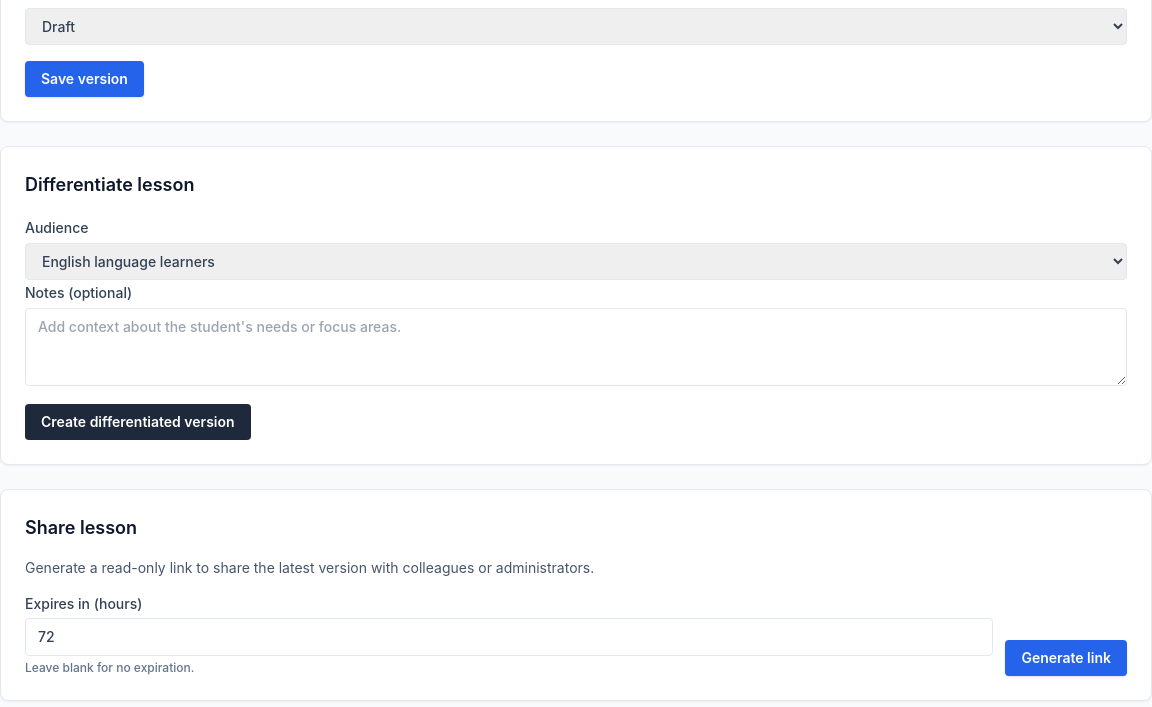
Test: LessonDetailPage › submits a differentiation request
The width and height of the screenshot is (1152, 707).
(page scrolled)
Type "Focus on vocabulary scaffolds." into the text box labelled "Notes (optional)" at (576, 347), box [25,308,1127,386]
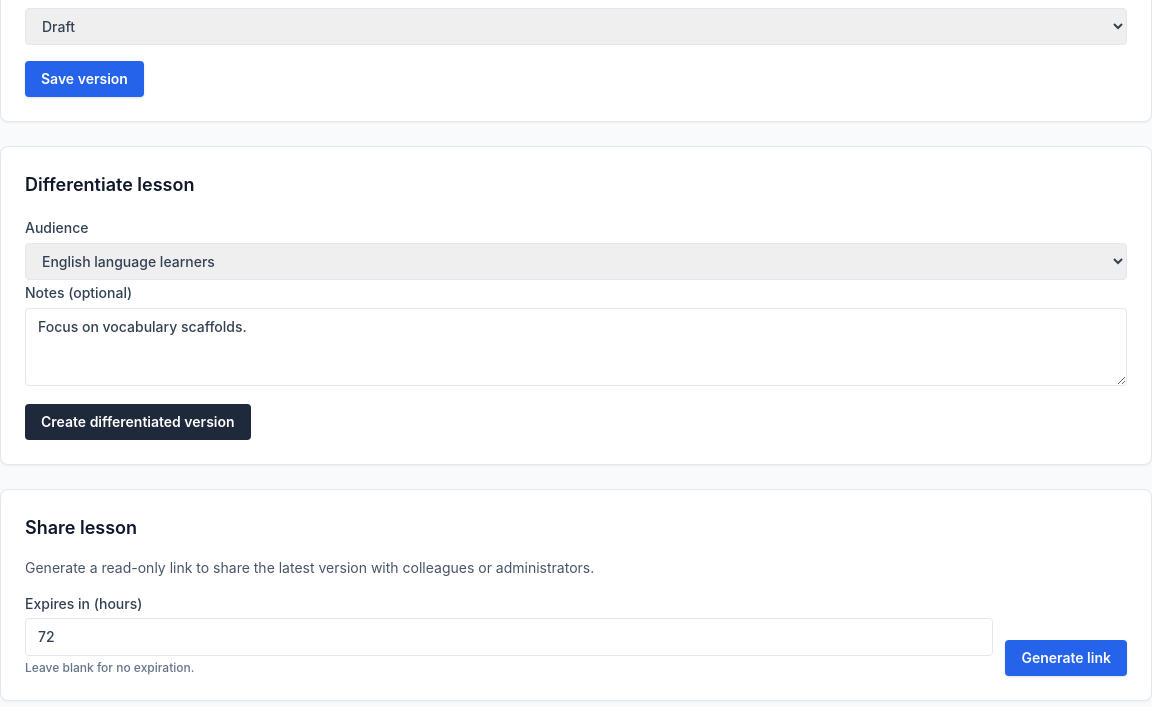
Click the button "Create differentiated version" at (138, 422), box [25,404,251,440]
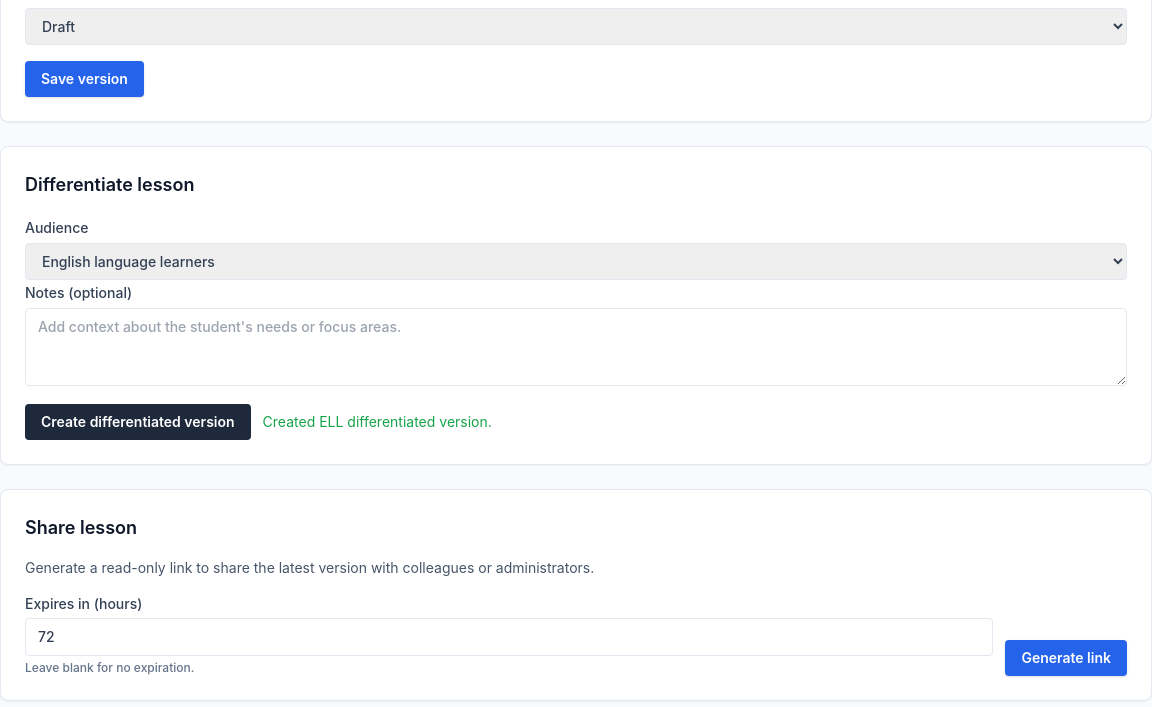
Expected: the text "Created ELL differentiated version." is shown, [263,412,492,432]
